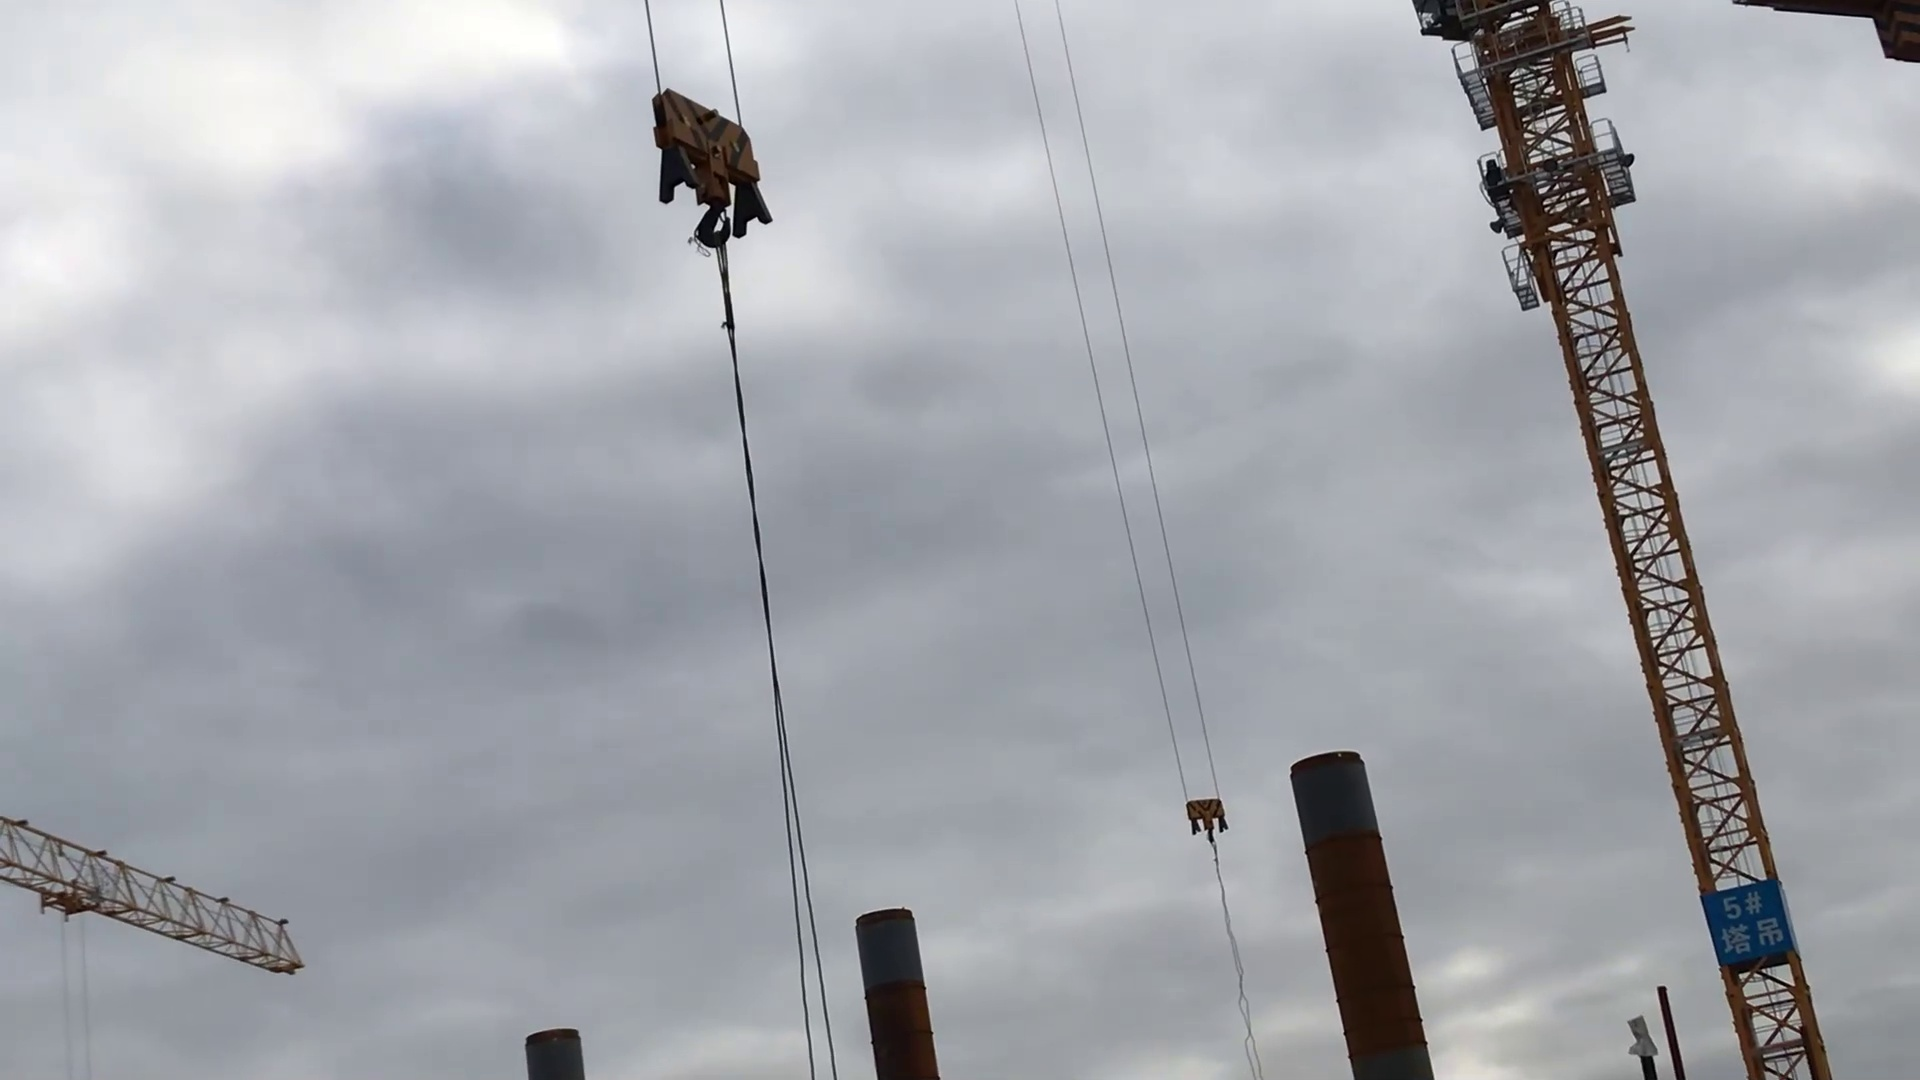hook: (658, 78, 764, 244), (1185, 796, 1226, 840)
